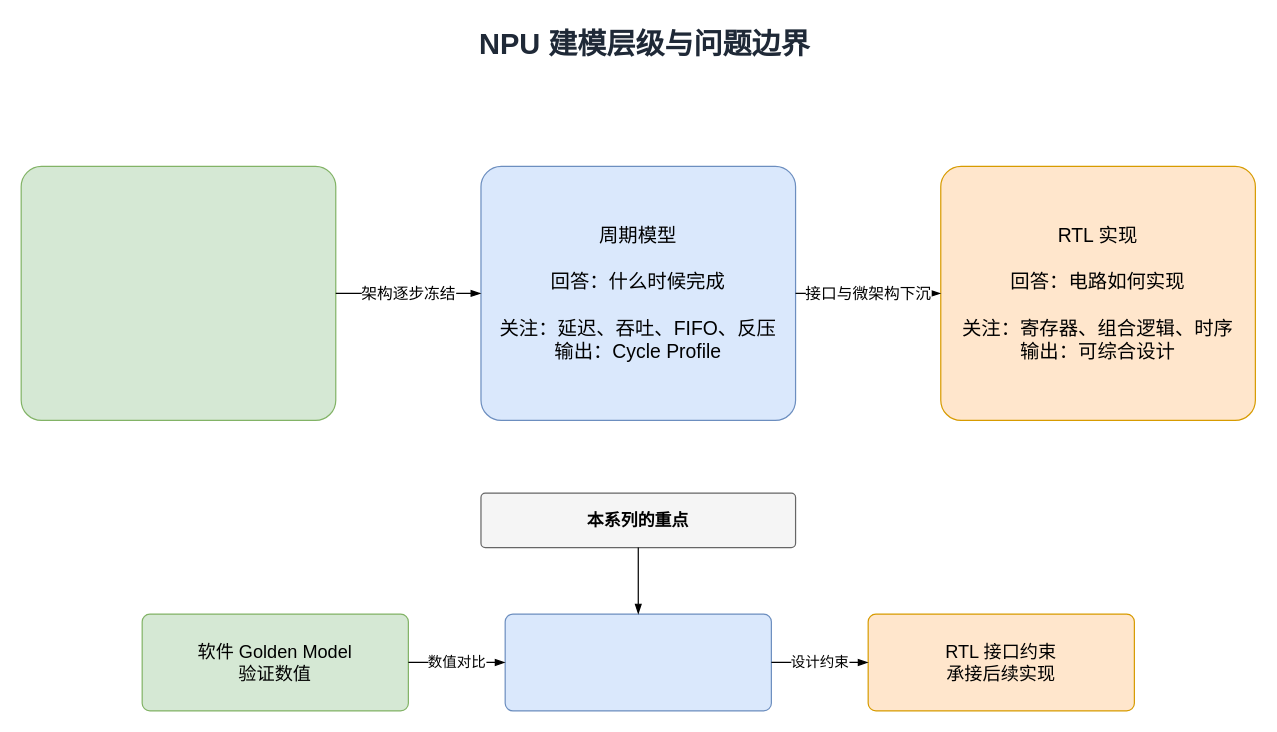
Image size: 1277x732. Some labels were removed from this diagram. Here are the shapes that lost their labels. From the top down, the centre of each, then its label:
At (x=178, y=292): "功能模型 回答：算得对不对 关注：算法、精度、算子组合 输出：Golden Result".
At (x=637, y=662): "gem5 + SystemC 构建周期级系统".
